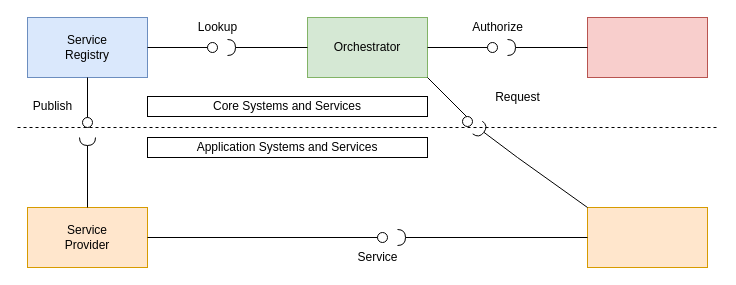
The diagram is 736 pixels wide and 285 high, and some of its shapes have lost their labels. The centre of each missing label's shape, as x and y in pixels:
Authorization: (x=647, y=47)
Service Consumer: (x=647, y=237)
